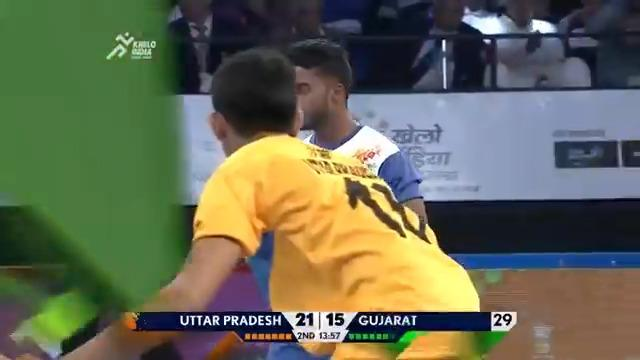Player: (59, 45, 483, 359)
Raider: (284, 37, 430, 229)
referee: (252, 37, 432, 357), (470, 0, 565, 88), (166, 0, 252, 94), (407, 0, 487, 90)
